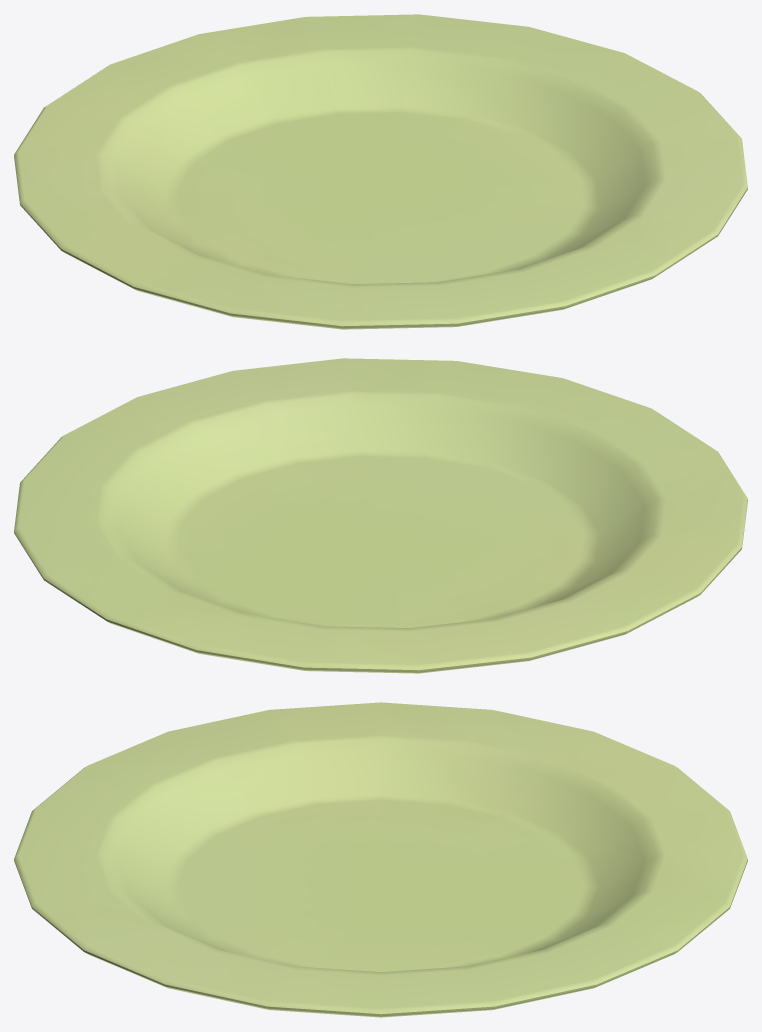
3 views of the same model, one above another, from view 1: azimuth 30°, elevation 25°; view 2: azimuth 150°, elevation 25°; view 3: azimuth 270°, elevation 25° (orthographic).
Parts seen in each view (by area): view 1: Object_2; view 2: Object_2; view 3: Object_2.
Boxes of the visible parts, box(x1,y1,x2,y2) form: Object_2: box(14, 14, 747, 329); Object_2: box(14, 358, 747, 673); Object_2: box(14, 702, 747, 1017).
Bounding box in the file's own units: 0.1 × 0.1 × 0.006.
